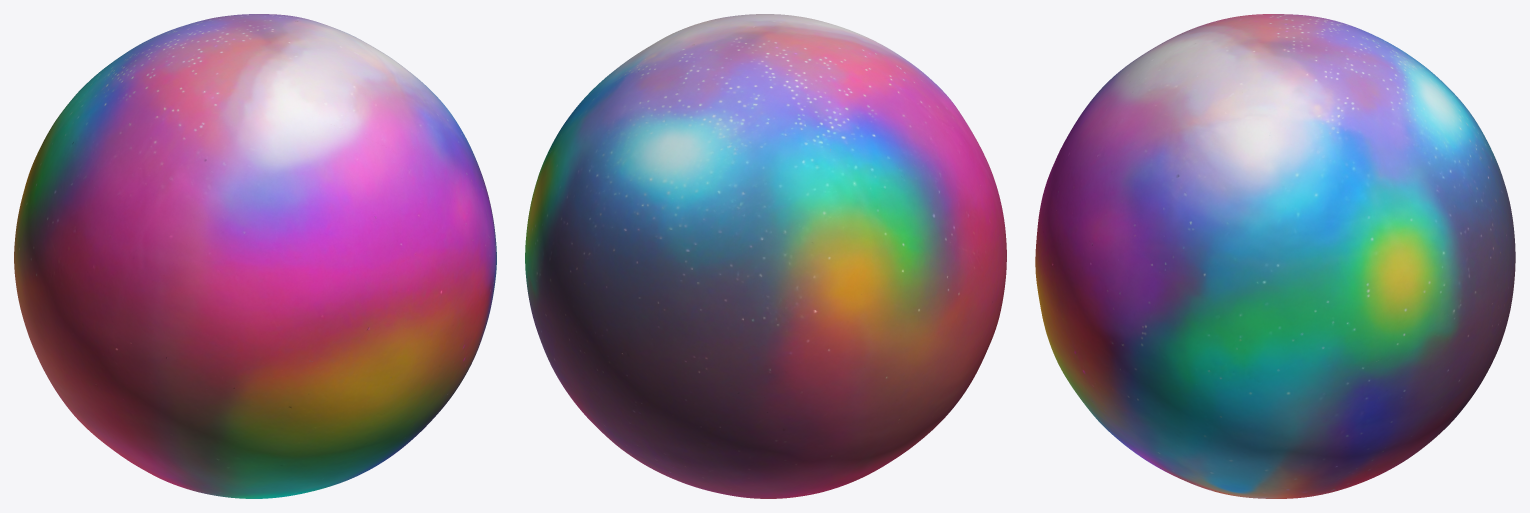
The model's file is Boss_Orb_7_Rainbow_Orb_Texture_1784483455359.glb.
The picture shows the model from 3 angles, left to right: view 1: azimuth 30°, elevation 25°; view 2: azimuth 150°, elevation 25°; view 3: azimuth 270°, elevation 25°; orthographic projection.
Size of the model in its own units: 2 by 2 by 2.
1 material, 1 textured.
